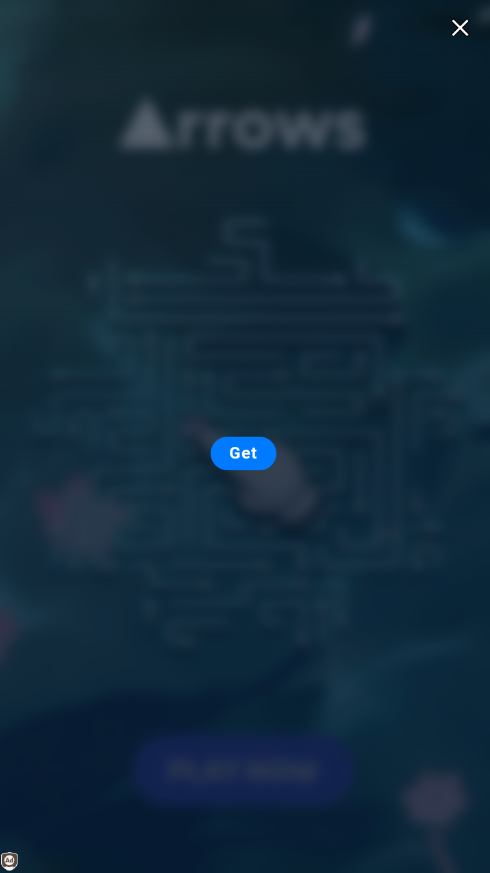close_button: (453, 15, 468, 40)
